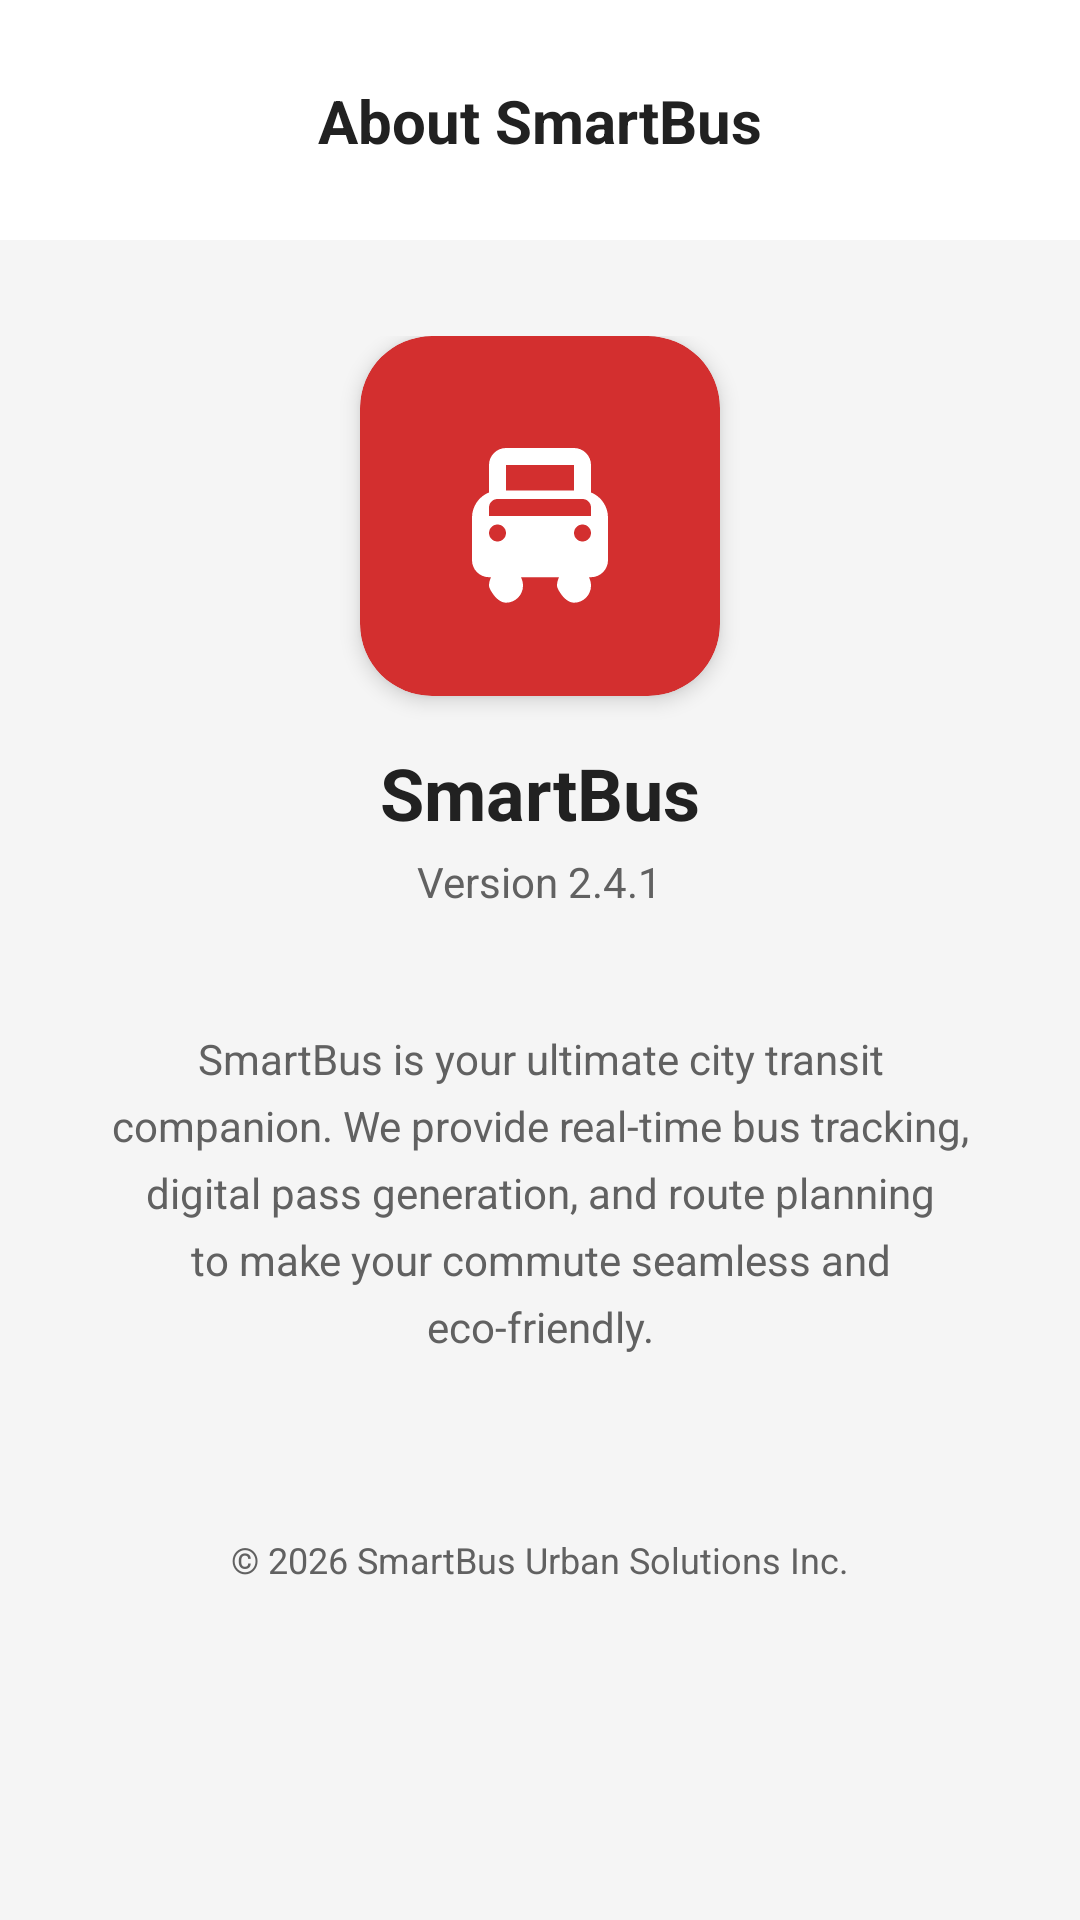

Icons on this 1080 × 1920 Android screen, each with its box as detection(x1, y1, x2, y2):
bus front: detection(360, 336, 720, 696)
